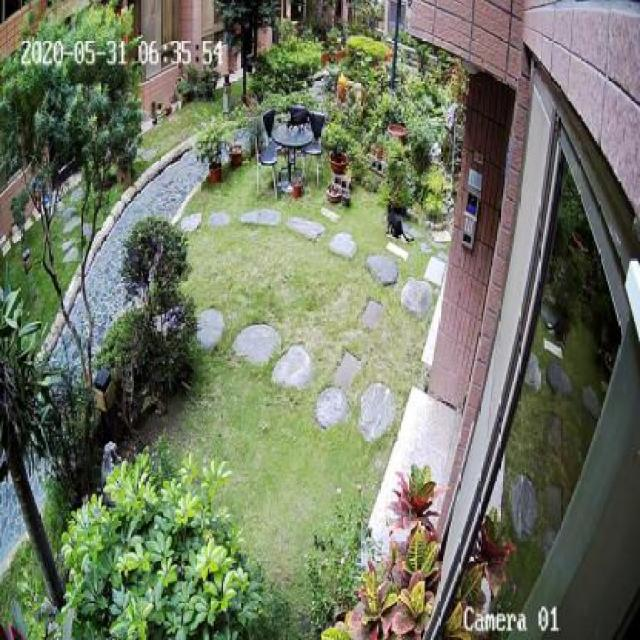animals: (382, 202, 416, 243), (284, 108, 313, 137)
